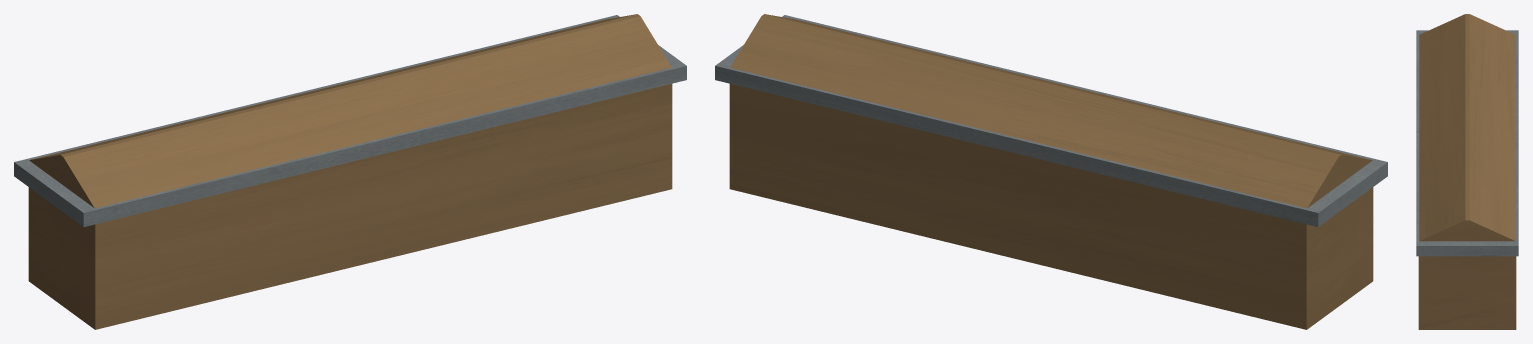
Rendered from BumperRailingx5.glb.
3 views of the same model, side by side, from view 1: azimuth 30°, elevation 25°; view 2: azimuth 150°, elevation 25°; view 3: azimuth 270°, elevation 25° (orthographic). The views are drawn at different scales.
Visible parts, largest first — view 1: BumperRailingx5; view 2: BumperRailingx5; view 3: BumperRailingx5.
Boxes of the visible parts, x1,y1,x2,y2 form: BumperRailingx5: [14, 14, 686, 329]; BumperRailingx5: [715, 14, 1387, 329]; BumperRailingx5: [1416, 14, 1518, 329].
Bounding box in the file's own units: 10.45 × 2.48 × 2.09.
2 materials, 2 textured.
